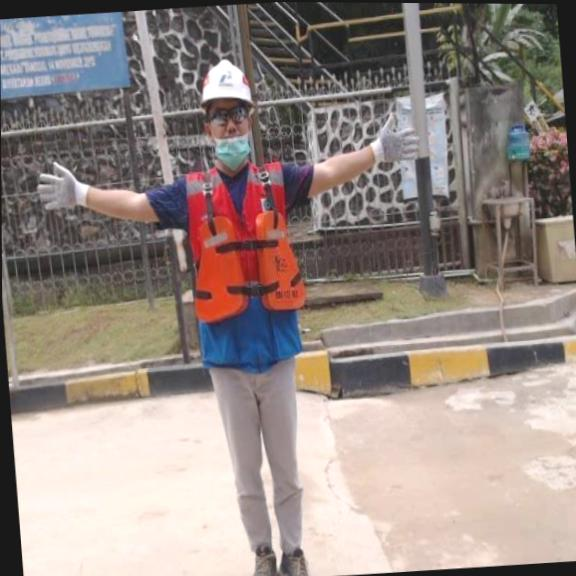safety_vest: (185, 210, 310, 323)
